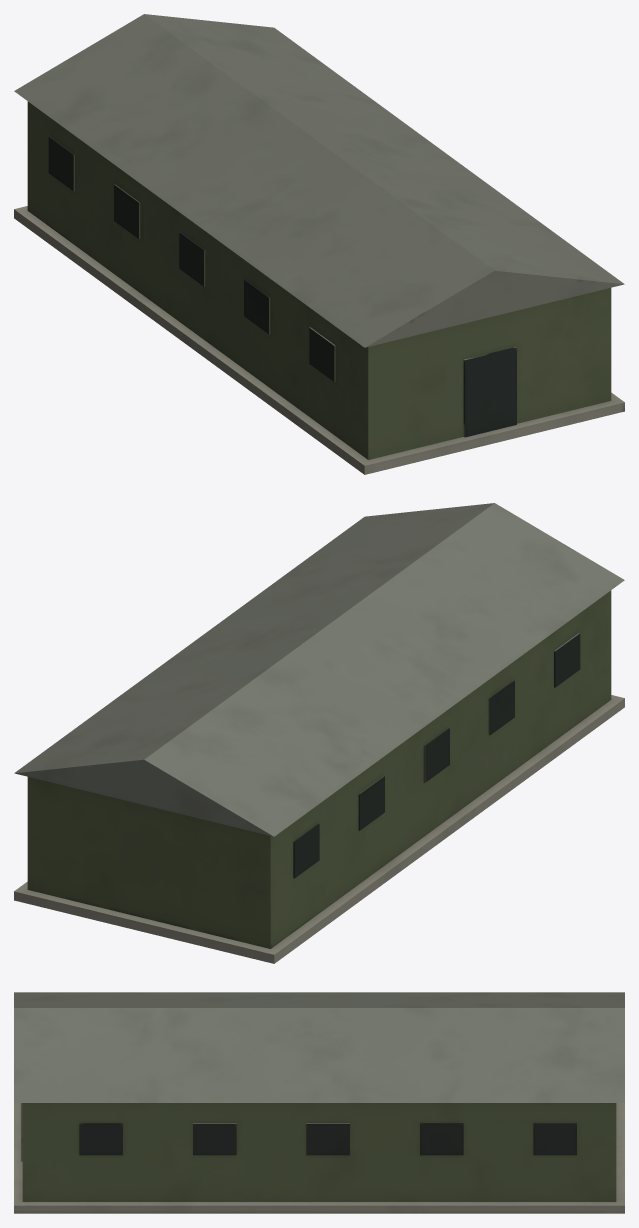
Rendered from military-barracks.fbx.
3 views of the same model, one above another, from view 1: azimuth 30°, elevation 25°; view 2: azimuth 150°, elevation 25°; view 3: azimuth 270°, elevation 25° (orthographic). The views are drawn at different scales.
Visible parts, largest first — view 1: military-barracks; view 2: military-barracks; view 3: military-barracks.
Boxes of the visible parts, box(x1,y1,x2,y2) form: military-barracks: box(14, 14, 624, 474); military-barracks: box(14, 503, 624, 963); military-barracks: box(14, 992, 624, 1213).
Size of the model in its own units: 30 by 19 by 70.
1 material, 1 textured.
